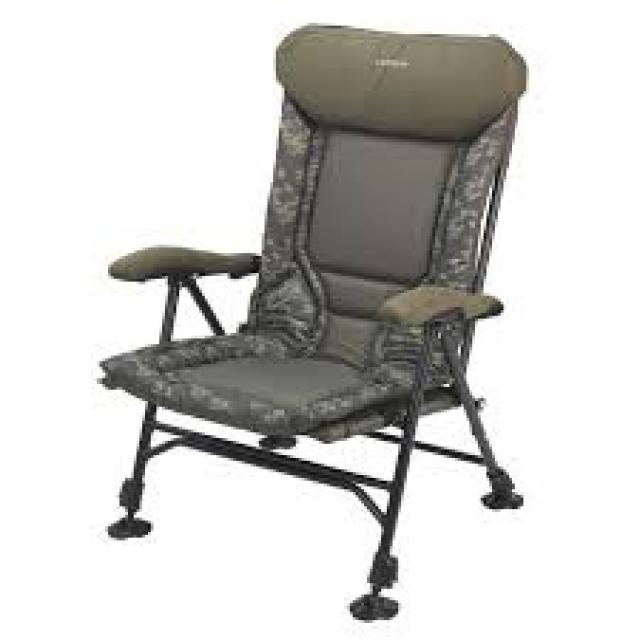chair: (49, 2, 598, 640)
